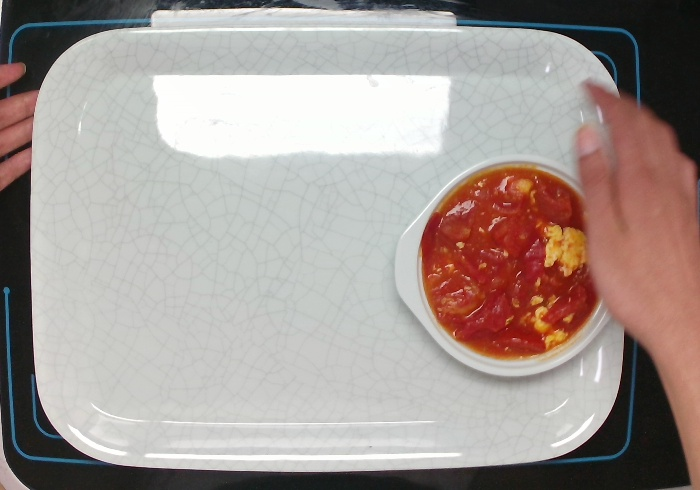JYsf-Shuang_Er_Pan: (390, 150, 620, 380)
